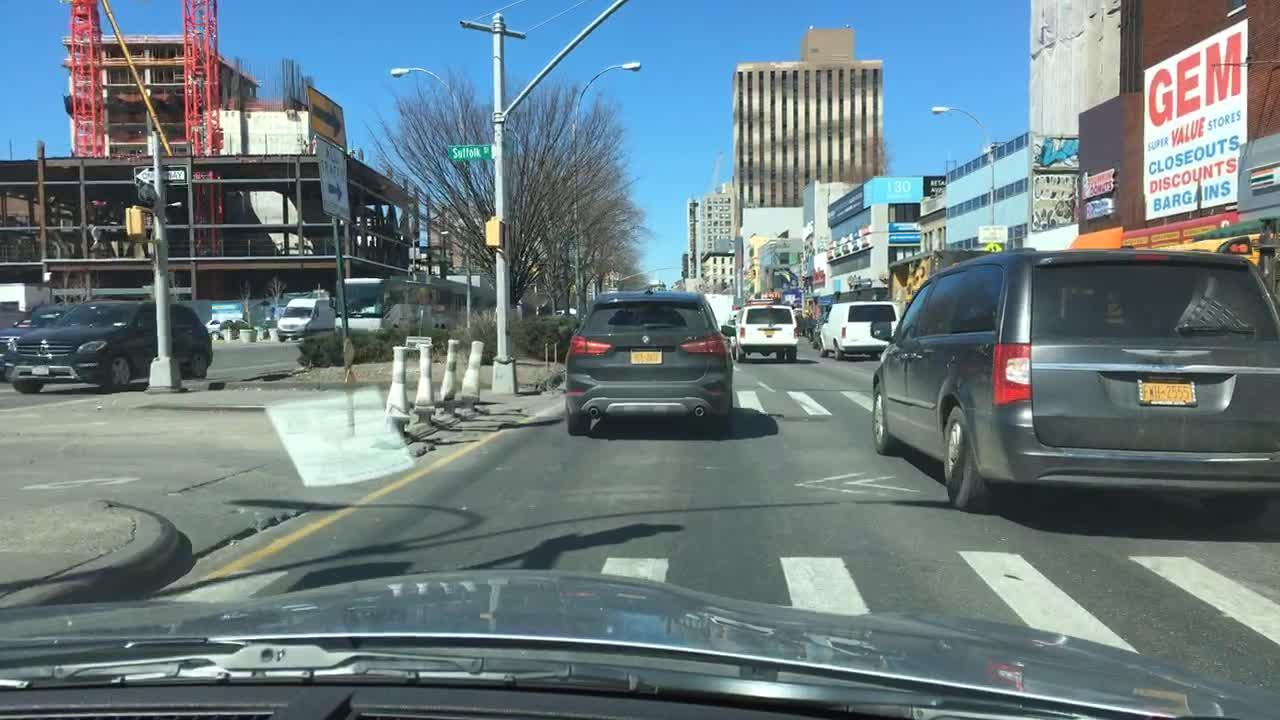Chrysler: (1098, 338, 1242, 374)
bmw: (639, 330, 652, 349)
